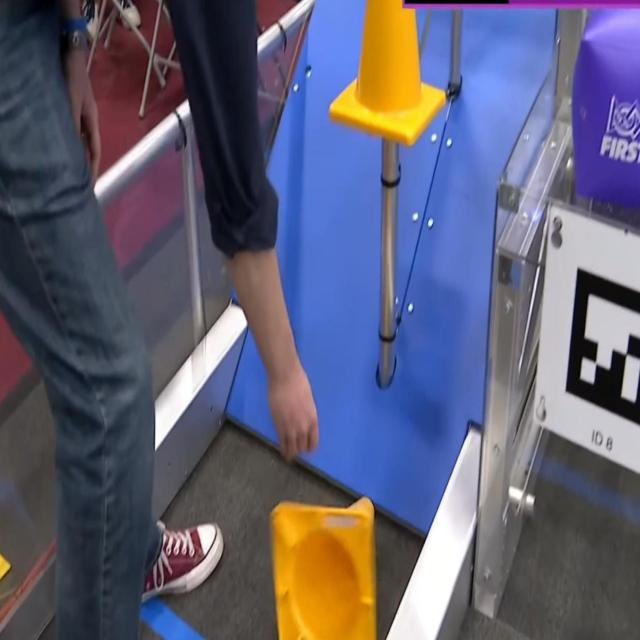frc_cone: (331, 0, 445, 149), (270, 498, 380, 640)
frc_cube: (573, 0, 639, 216)
